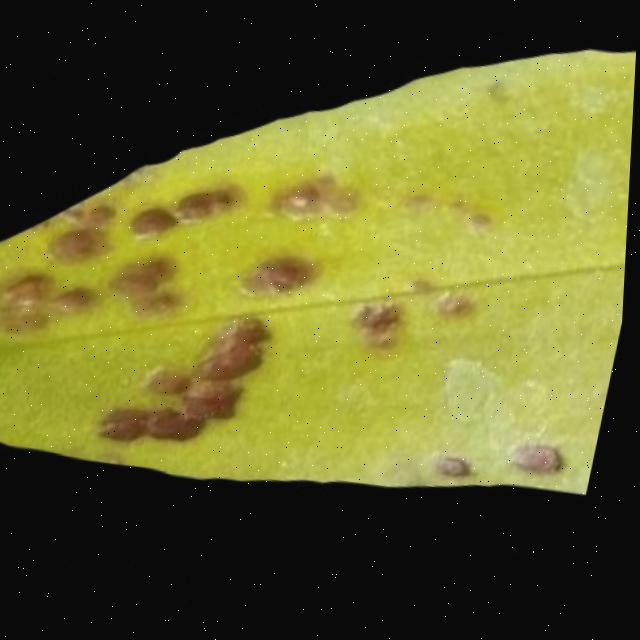mite: (196, 314, 282, 392), (100, 400, 213, 457), (0, 268, 67, 341), (47, 223, 113, 272), (130, 205, 185, 246), (56, 284, 106, 319)
